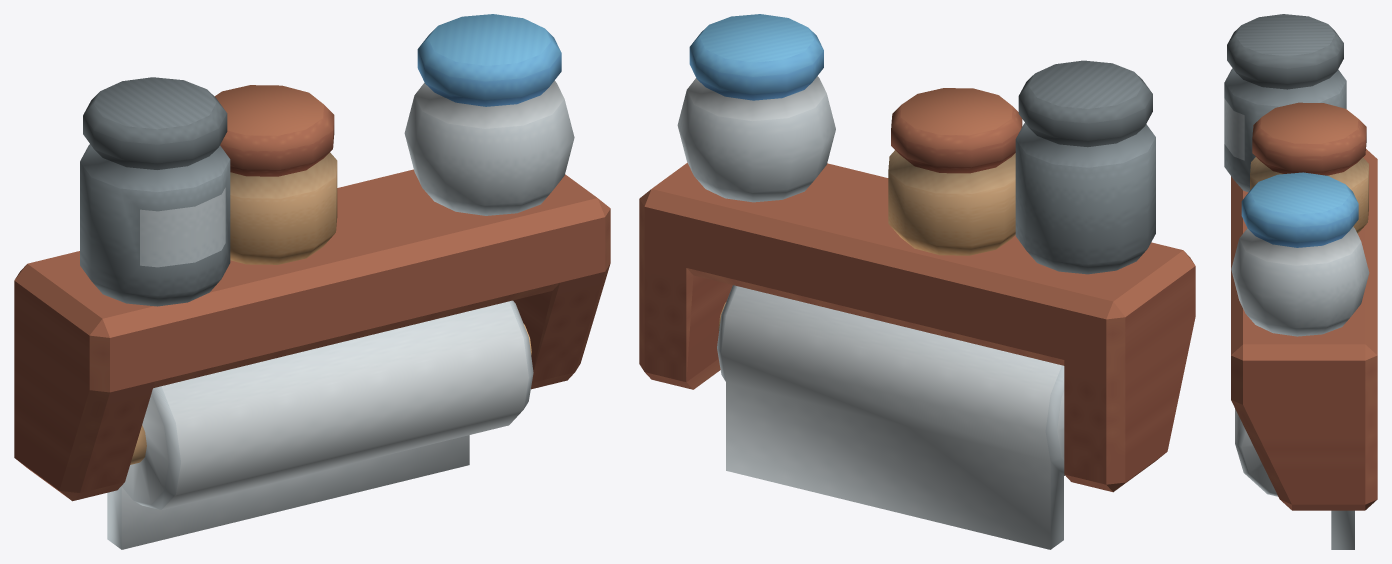
Rendered from shelf_papertowel_decorated.gltf.
3 renders of one model, left to right at view 1: azimuth 30°, elevation 25°; view 2: azimuth 150°, elevation 25°; view 3: azimuth 270°, elevation 25°, orthographic. The views are drawn at different scales.
Visible parts, largest first — view 1: shelf_papertowel_decorated; view 2: shelf_papertowel_decorated; view 3: shelf_papertowel_decorated.
Boxes of the visible parts, x1,y1,x2,y2 form: shelf_papertowel_decorated: (14, 14, 610, 549); shelf_papertowel_decorated: (639, 14, 1195, 549); shelf_papertowel_decorated: (1224, 14, 1377, 549).
Size of the model in its own units: 2 by 1.71 by 0.6264.
Materials: 1 (1 with a texture image).
